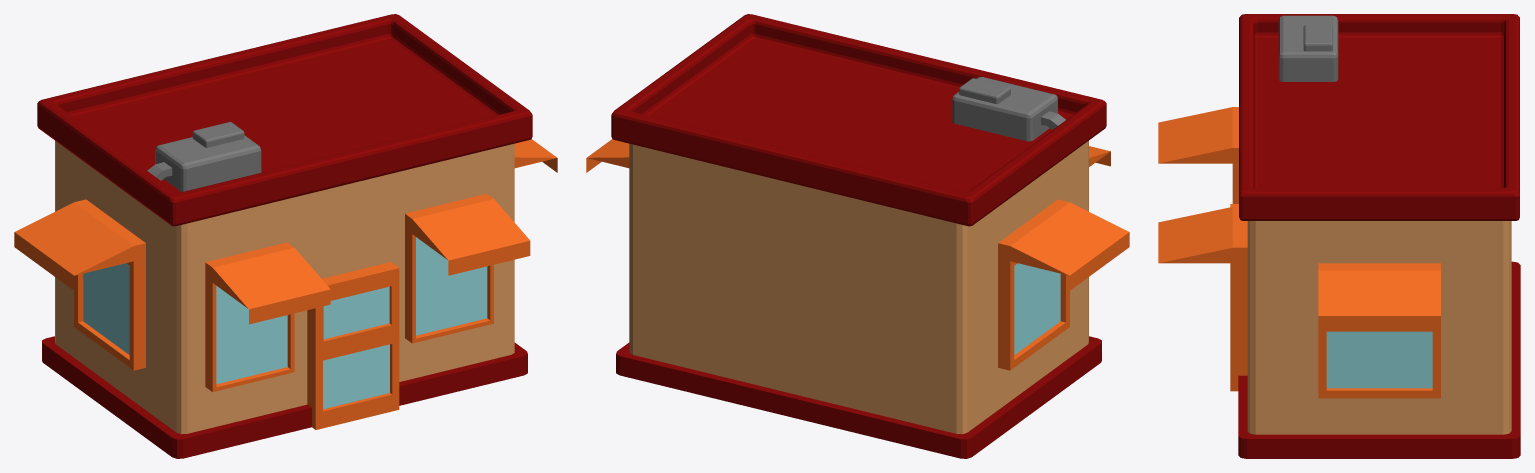
Rendered from predio_loja.fbx.
The picture shows the model from 3 angles, left to right: view 1: azimuth 30°, elevation 25°; view 2: azimuth 150°, elevation 25°; view 3: azimuth 270°, elevation 25°; orthographic projection. The views are drawn at different scales.
Visible parts, largest first — view 1: Loja; view 2: Loja; view 3: Loja.
Boxes of the visible parts, x1,y1,x2,y2 form: Loja: [14, 14, 557, 458]; Loja: [586, 14, 1129, 458]; Loja: [1158, 14, 1520, 458].
Bounding box in the file's own units: 396 × 220 × 251.
